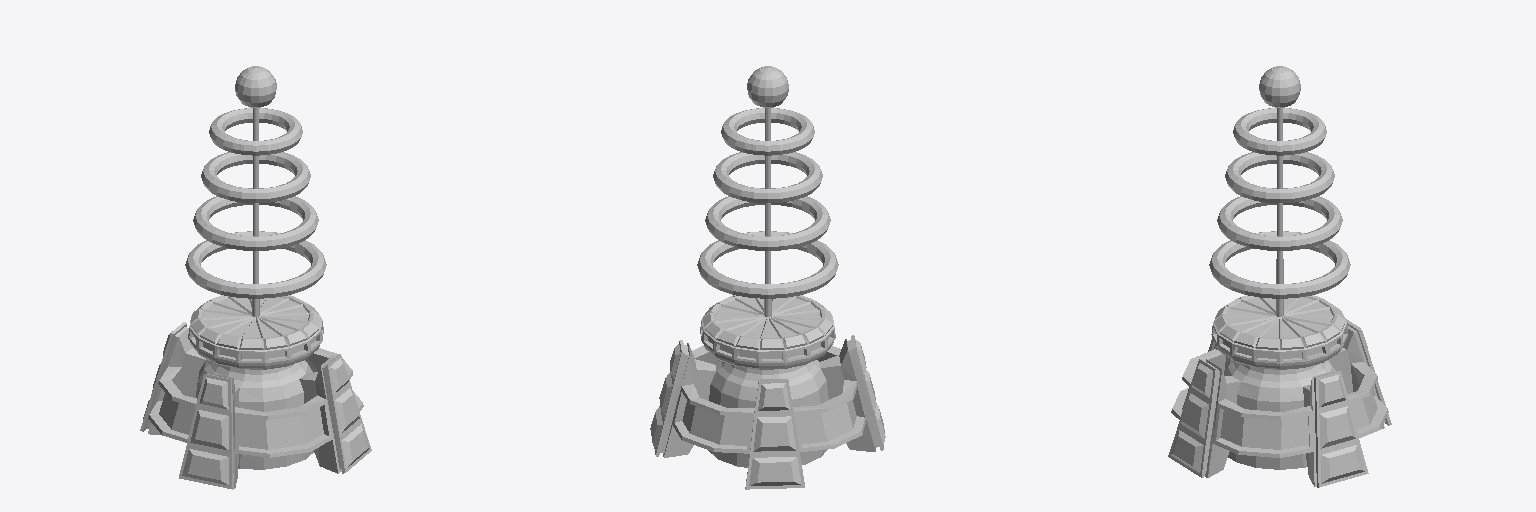
The model's file is Power Source.obj.
The picture shows the model from 3 angles: view 1: azimuth 30°, elevation 25°; view 2: azimuth 150°, elevation 25°; view 3: azimuth 270°, elevation 25°; orthographic projection.
Visible parts, largest first — view 1: Cylinder_Cylinder.001; view 2: Cylinder_Cylinder.001; view 3: Cylinder_Cylinder.001.
Part boxes in pixels (x1,y1,x2,y2): Cylinder_Cylinder.001: (140, 66, 371, 489); Cylinder_Cylinder.001: (650, 66, 885, 489); Cylinder_Cylinder.001: (1168, 66, 1391, 487).
Size of the model in its own units: 2.85 by 5.27 by 2.85.